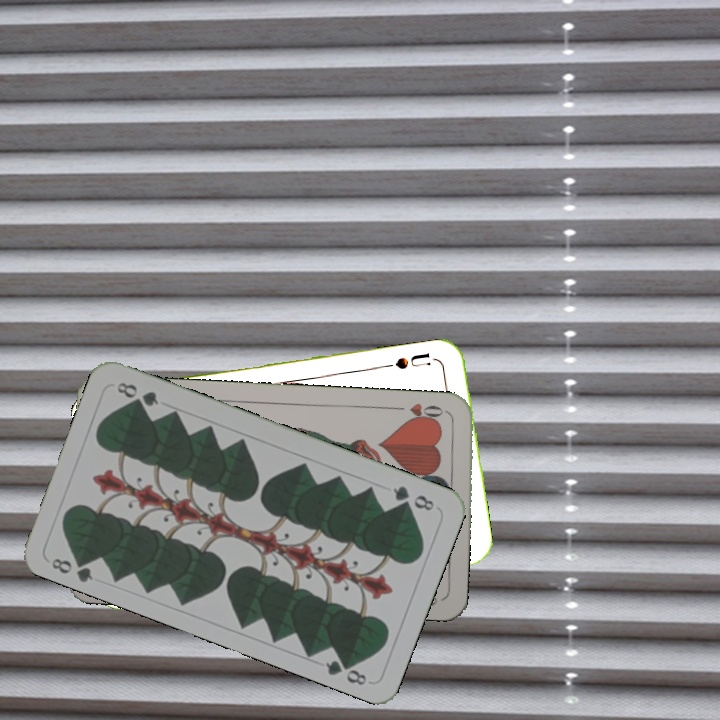G8: (47, 551, 96, 585), (388, 481, 437, 514)
HO: (391, 399, 450, 426)
SU: (391, 348, 433, 372)
